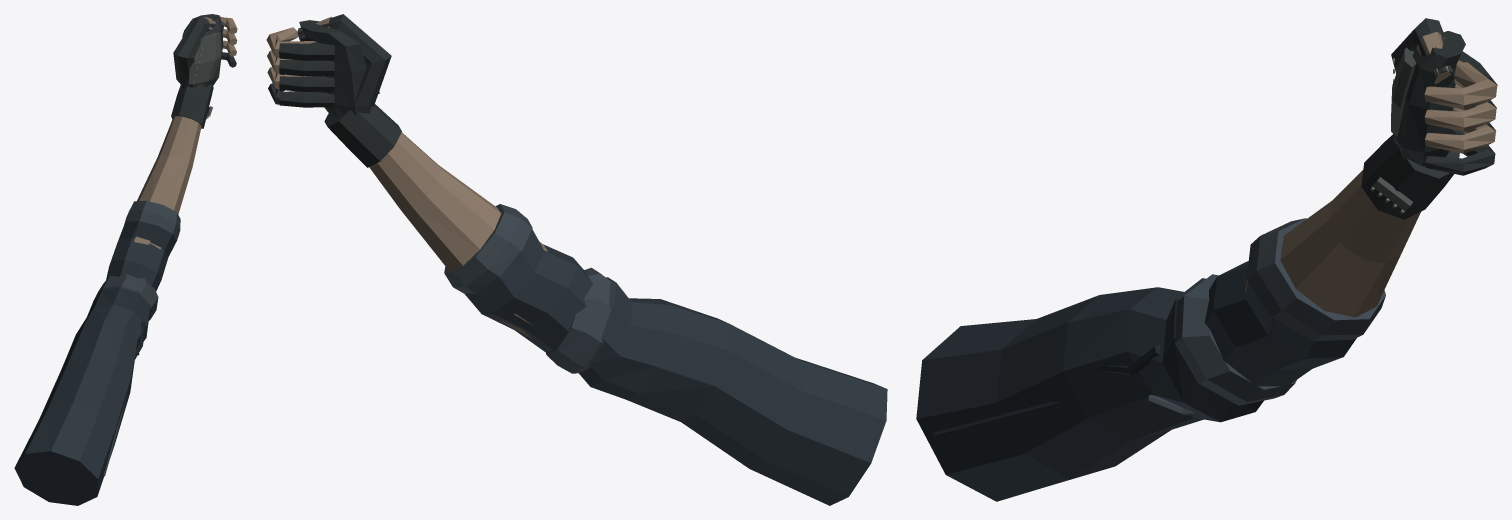
Rendered from la-grip-arm-v261.glb.
The picture shows the model from 3 angles, left to right: view 1: azimuth 30°, elevation 25°; view 2: azimuth 150°, elevation 25°; view 3: azimuth 270°, elevation 25°; orthographic projection. The views are drawn at different scales.
Parts seen in each view (by area): view 1: la-grip-arm-v261; view 2: la-grip-arm-v261; view 3: la-grip-arm-v261.
Part boxes in pixels (left/top/right/bottom): la-grip-arm-v261: left=14, top=14, right=237, bottom=505; la-grip-arm-v261: left=266, top=14, right=887, bottom=505; la-grip-arm-v261: left=916, top=18, right=1497, bottom=501.
Bounding box in the file's own units: 0.7136 × 0.7506 × 0.5578.
